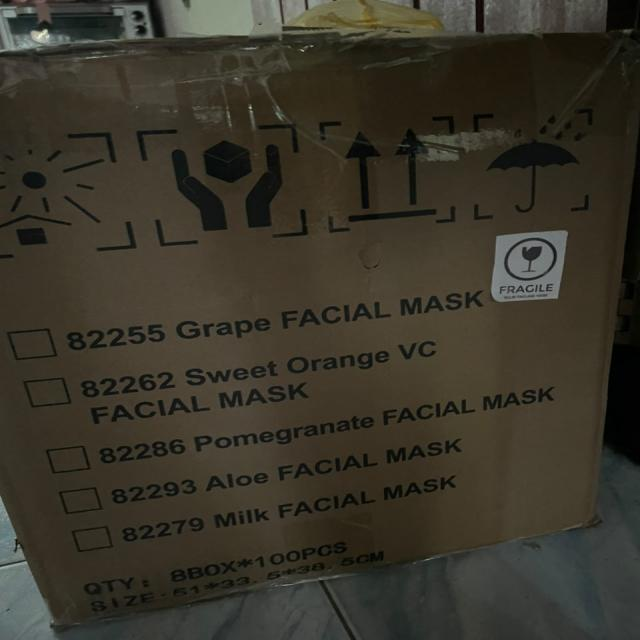carton_box: (0, 24, 640, 640)
fragile_label: (488, 224, 590, 308)
handle_with_care_label: (135, 118, 312, 247)
keep_dry_label: (472, 109, 602, 220)
protect_from_heat_label: (0, 129, 147, 256)
this_side_up_label: (327, 118, 461, 225)
